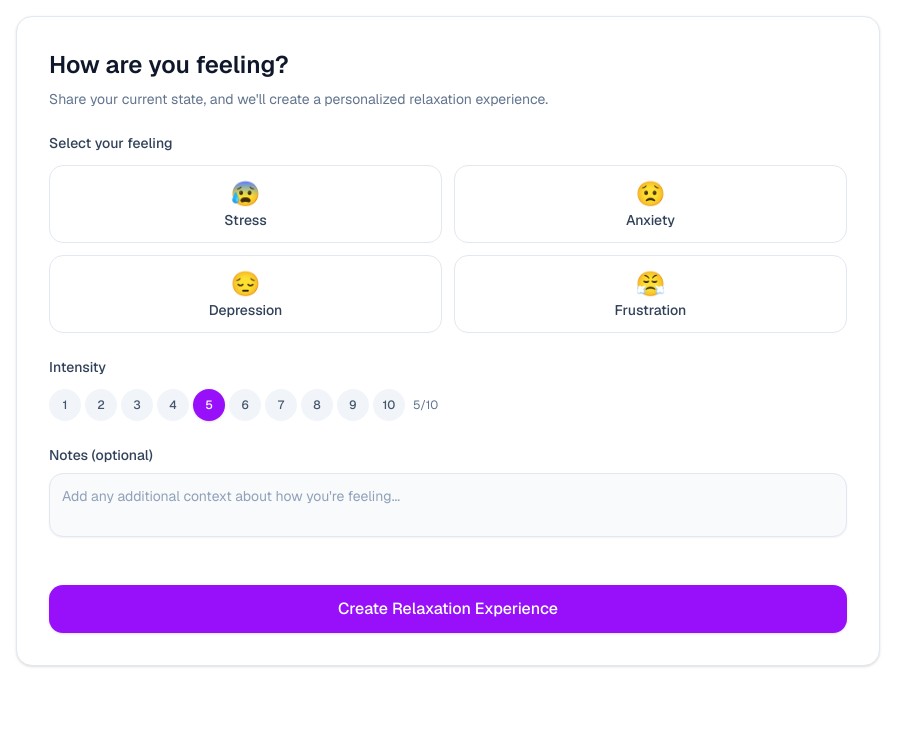
Scenario: MoodCheckInForm › shows validation error when submitting without a feeling
Click the button "Create Relaxation Experience" at x=448, y=609, box [49, 585, 847, 633]
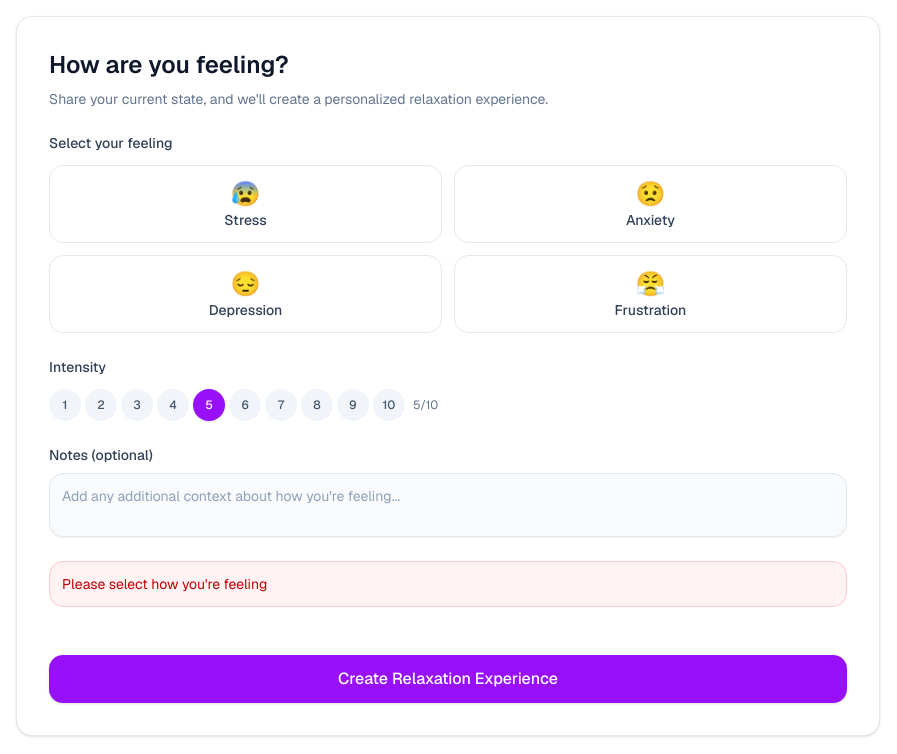
Result: the text "Please select how you're feeling" is shown at [62, 575, 267, 593]
